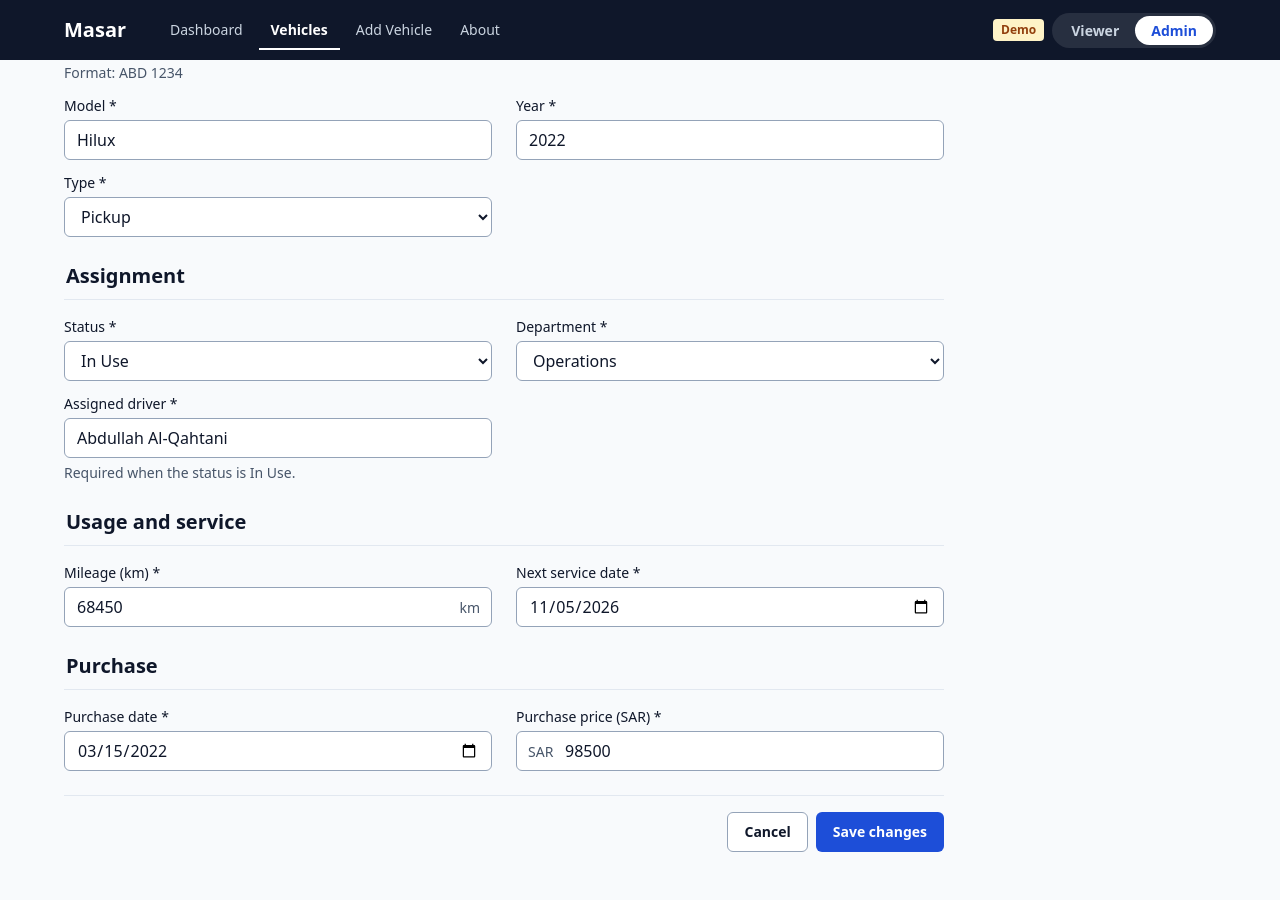
Test: Edit vehicle (US-5) › Cancel returns to the details page without saving (AC-5.6)
(page scrolled)
Step 1. Replace the text in the number field labelled "Mileage (km) *" with "99999" → (278, 607), box [64,587,492,627]
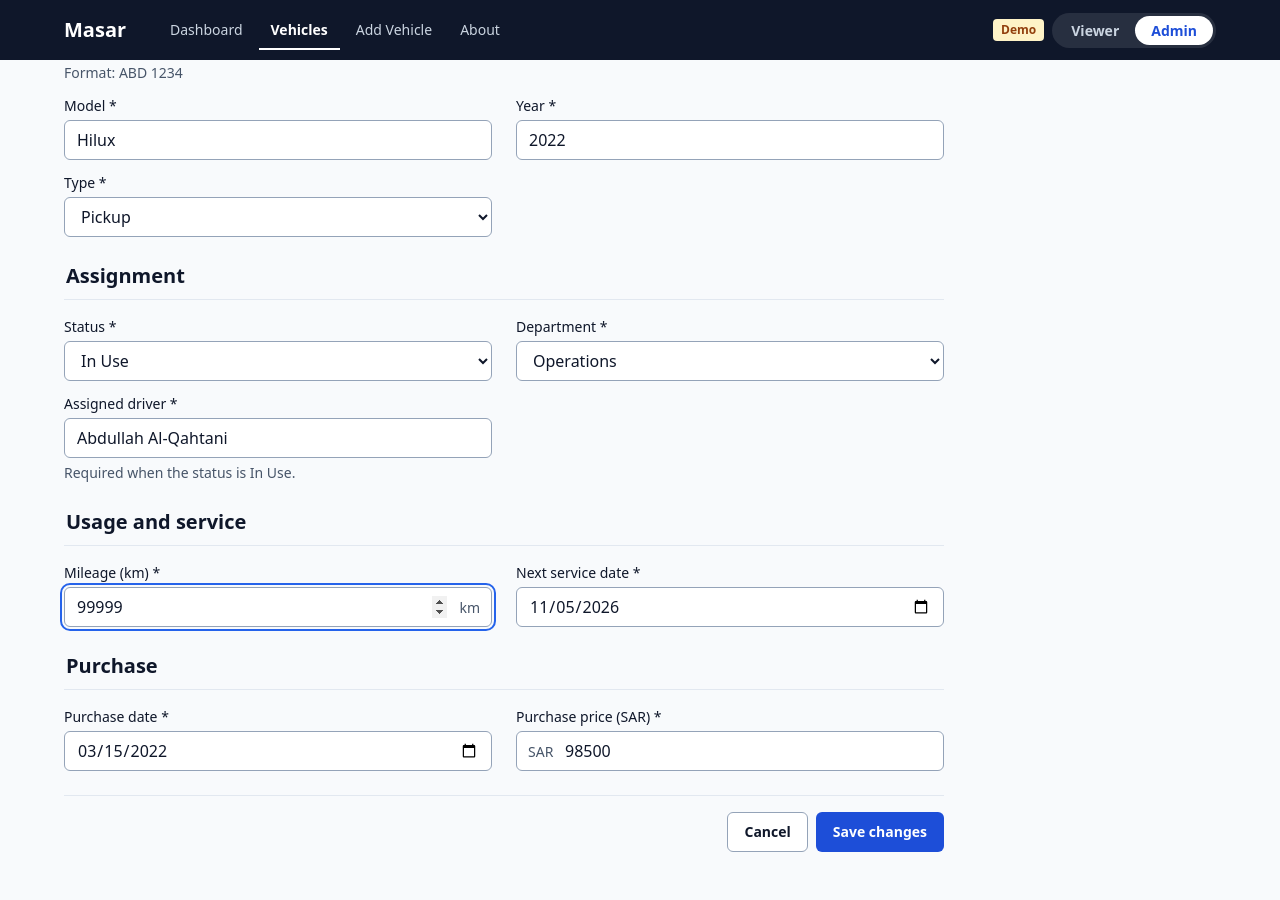
Step 2. Click the button "Cancel" → (768, 832), box [728,812,808,852]
(page scrolled)
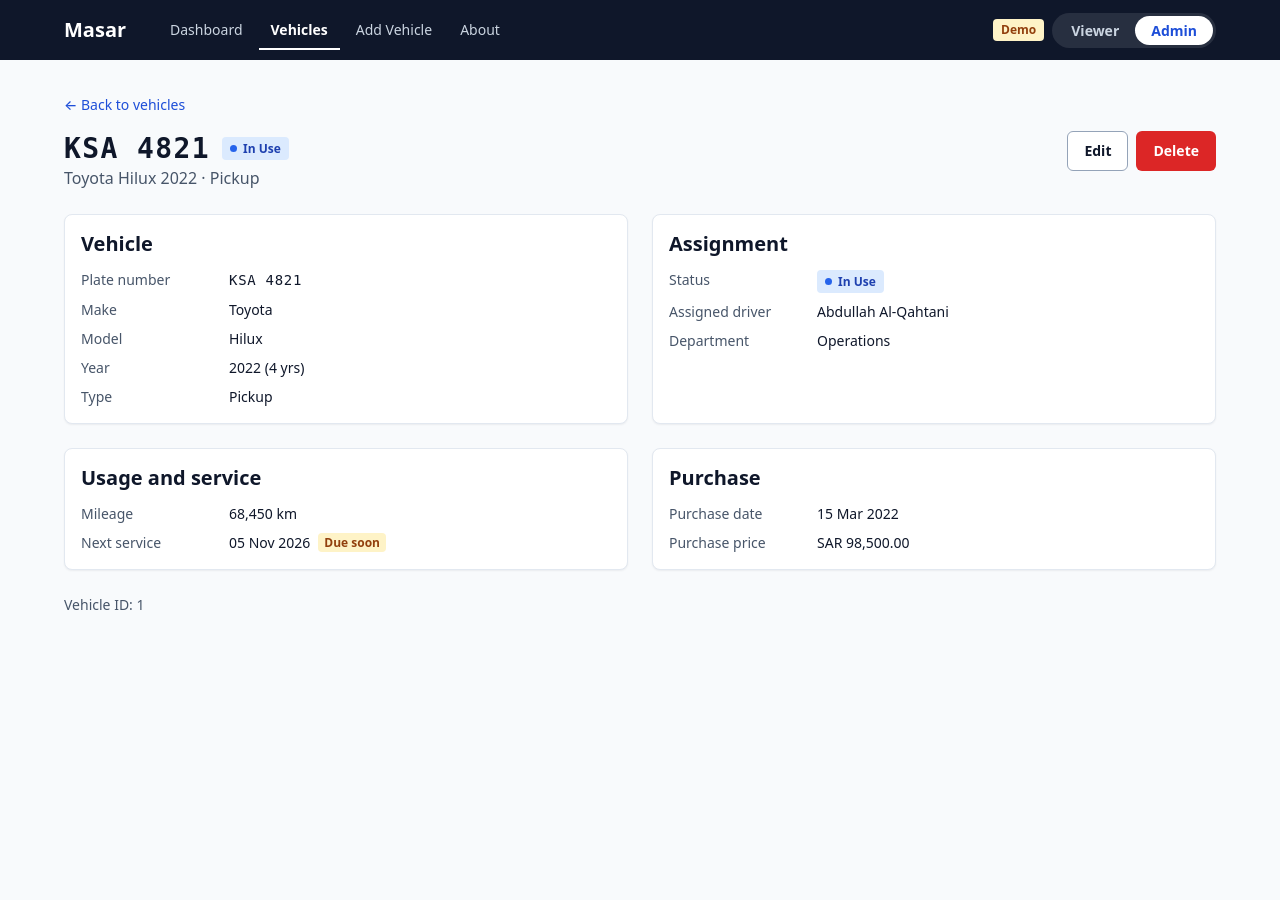
expect the text "68,450 km" is shown: met, box [229,504,297,523]
